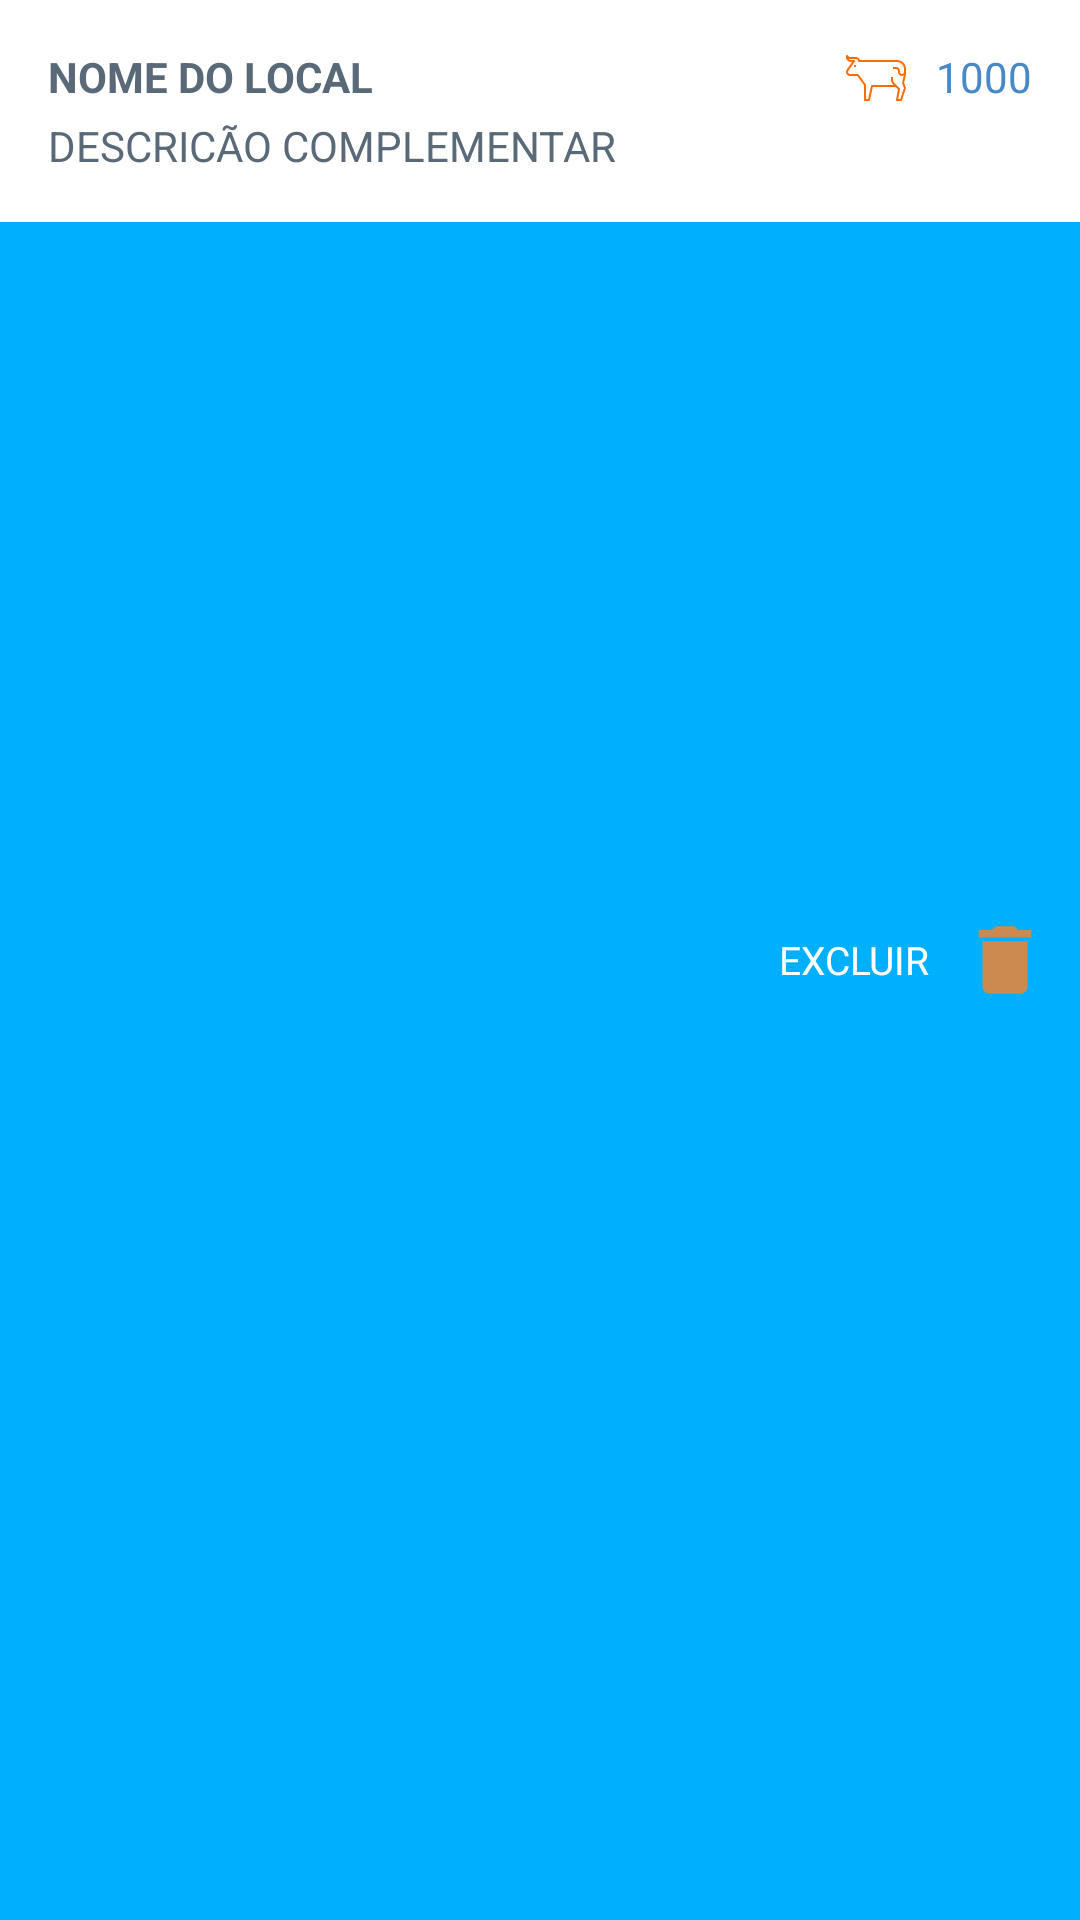

Screen size 1080 × 1920. Icon name, then its box in pixels as (x1, y1, x2, y2):
animal: (846, 55, 906, 101)
delete: (978, 926, 1032, 994)
